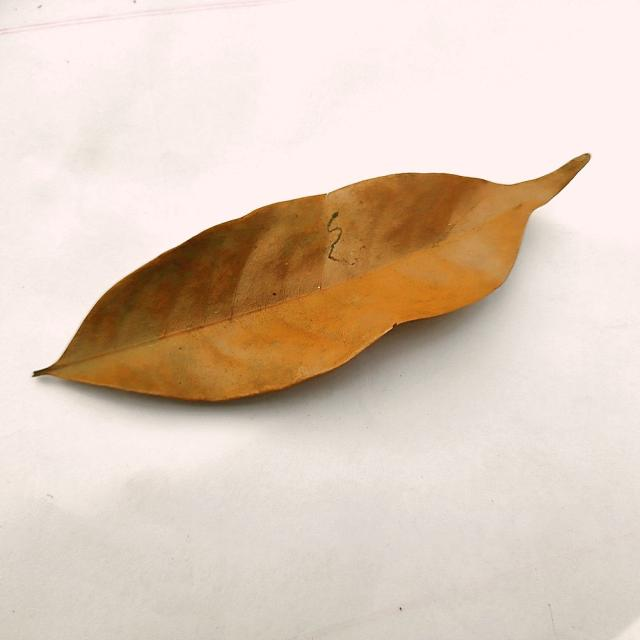Dry_Leaf-Lychee: (36, 155, 591, 406)
